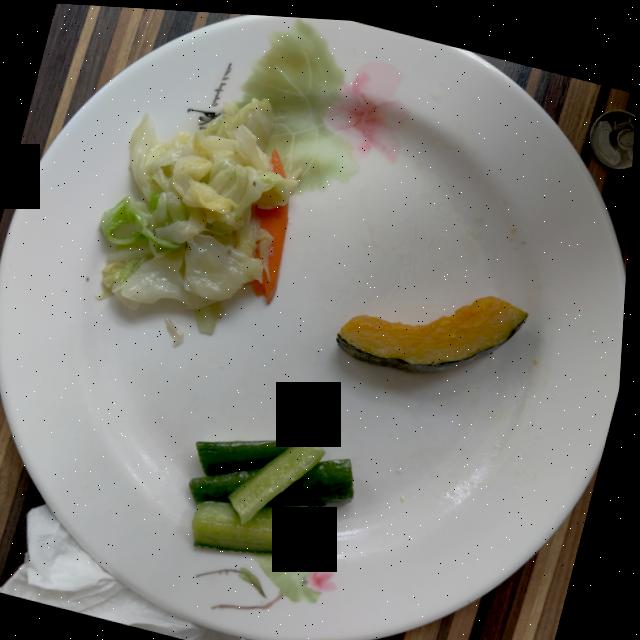cabbage: (103, 95, 300, 331)
coin: (591, 102, 636, 162)
cucumber: (195, 434, 360, 552)
pumpkin: (341, 290, 531, 368)
